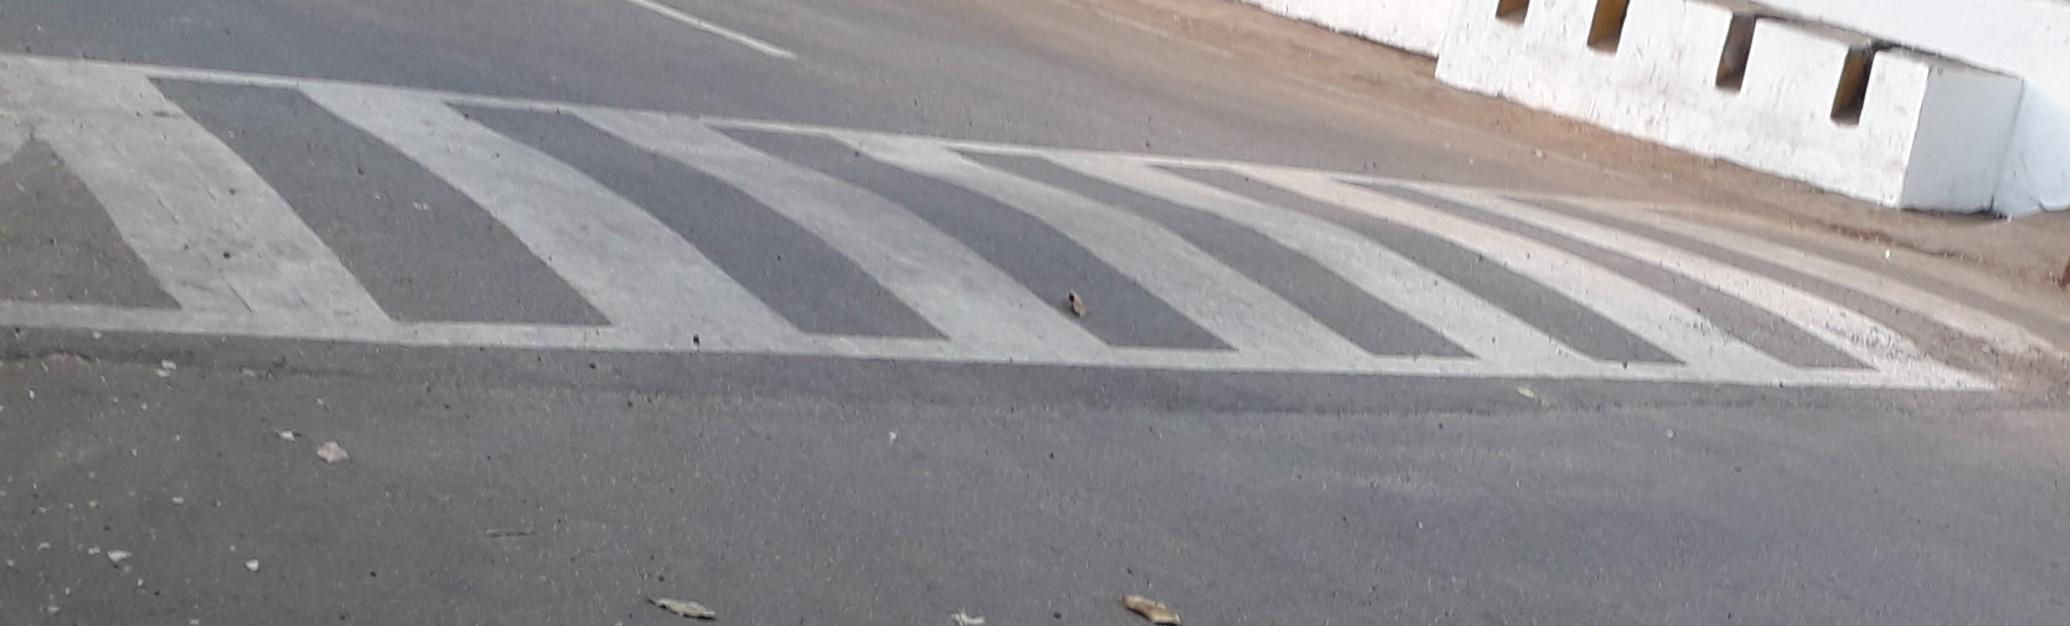speed-bump: (2, 42, 2068, 392)
